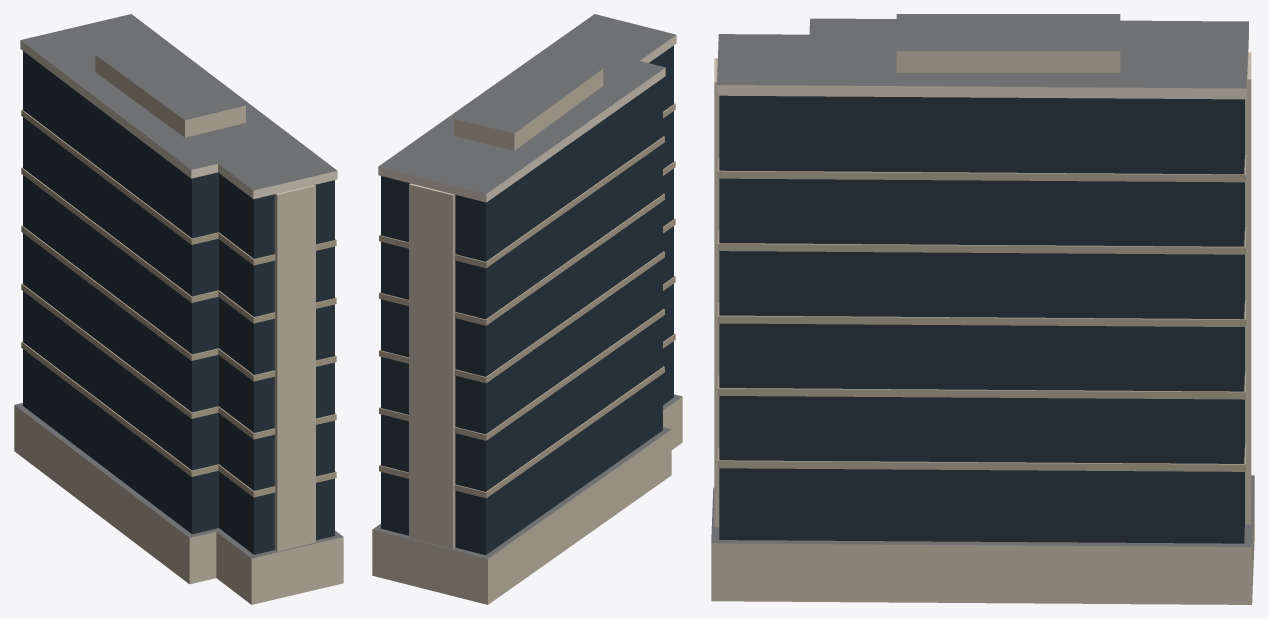
Rendered from bldg_w128632721.glb.
3 views of the same model, side by side, from view 1: azimuth 30°, elevation 25°; view 2: azimuth 150°, elevation 25°; view 3: azimuth 270°, elevation 25° (orthographic). The views are drawn at different scales.
Visible parts, largest first — view 1: Bldg_w128632721; view 2: Bldg_w128632721; view 3: Bldg_w128632721.
Boxes of the visible parts, x1=… form: Bldg_w128632721: x1=14, y1=14, x2=343, y2=604; Bldg_w128632721: x1=372, y1=14, x2=682, y2=604; Bldg_w128632721: x1=711, y1=14, x2=1254, y2=604.
Bounding box in the file's own units: 22.16 × 74 × 68.05.
